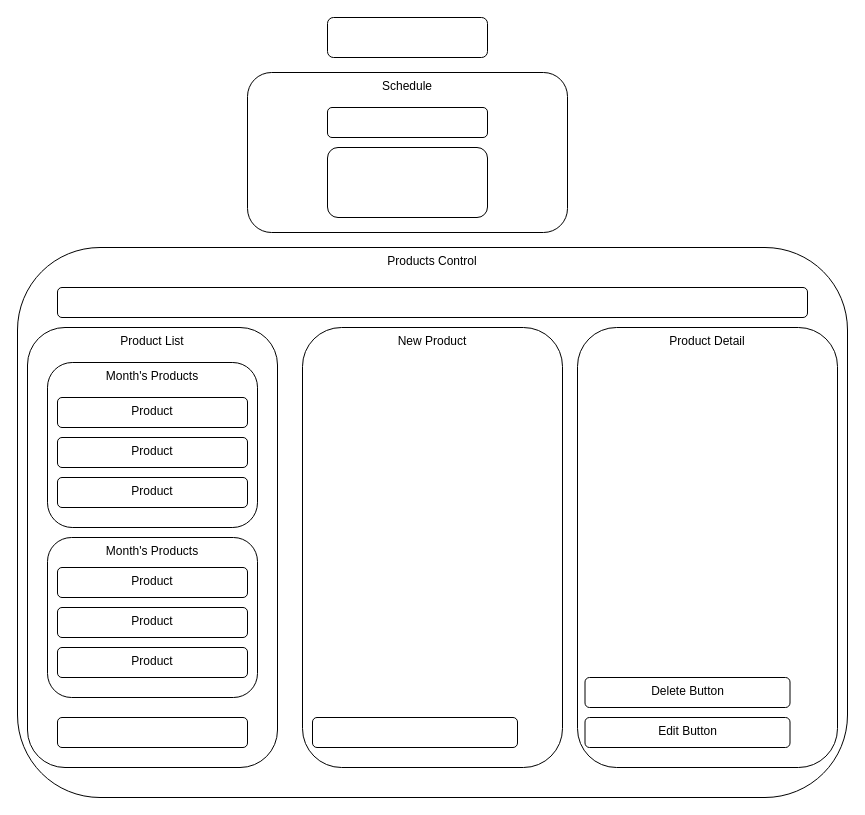
Image size: 865x815. Some labels were removed from this diagram. The centre of each missing label's shape, as x and y in pixels:
"Add Product Button" goes at point (152, 732).
"Day Location Hours Booth" goes at point (407, 182).
"Header" goes at point (407, 37).
"Product Header" goes at point (432, 302).
"Schedule Header" goes at point (407, 122).
"Submit Button" goes at point (415, 732).
